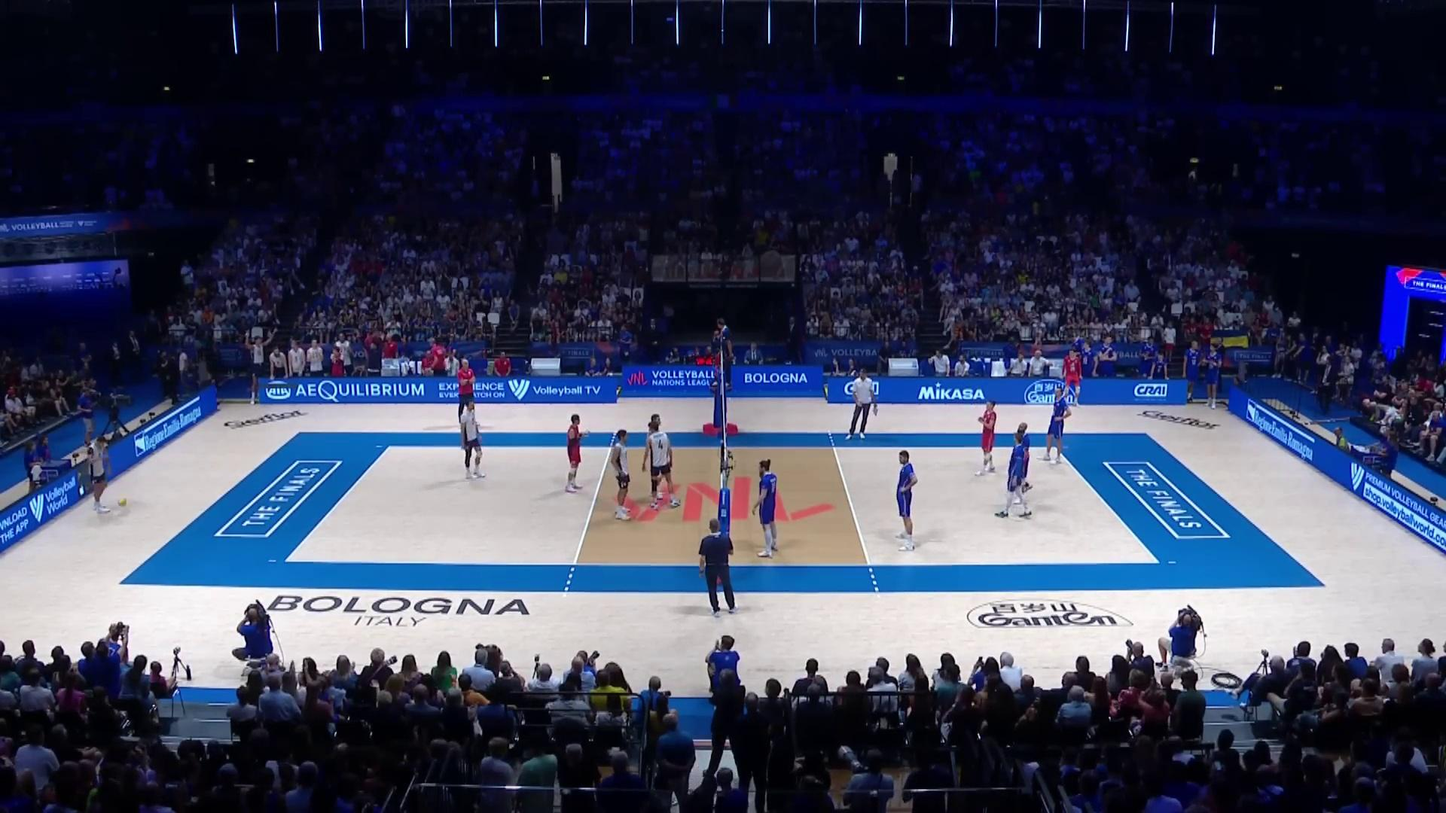player: (751, 459, 781, 559), (605, 428, 634, 523), (999, 437, 1031, 521), (895, 453, 921, 552), (647, 421, 674, 515), (644, 415, 670, 501), (1044, 388, 1069, 462), (90, 437, 114, 513), (462, 400, 484, 480), (980, 398, 1002, 474), (563, 413, 583, 490), (1014, 422, 1031, 500)
refree: (697, 521, 736, 617), (715, 318, 734, 384)
